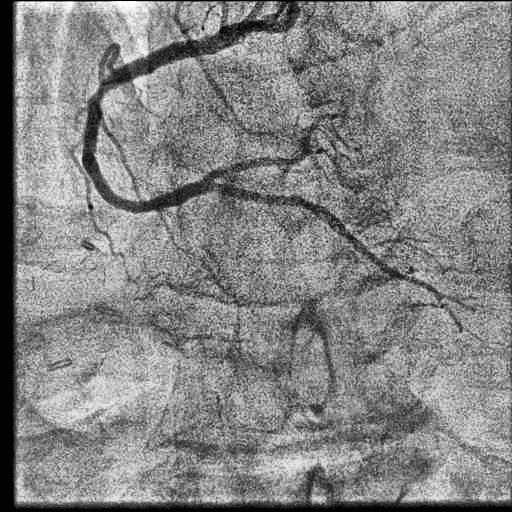pborca: (211, 128, 314, 178)
pda: (208, 183, 440, 296)
rca: (82, 25, 239, 213)
